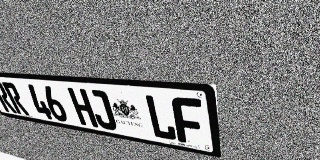4: (24, 84, 54, 120)
6: (39, 85, 70, 123)
F: (171, 96, 205, 146)
H: (67, 88, 99, 128)
J: (86, 89, 118, 131)
L: (144, 94, 177, 141)
R: (1, 82, 30, 116), (0, 81, 17, 113)
